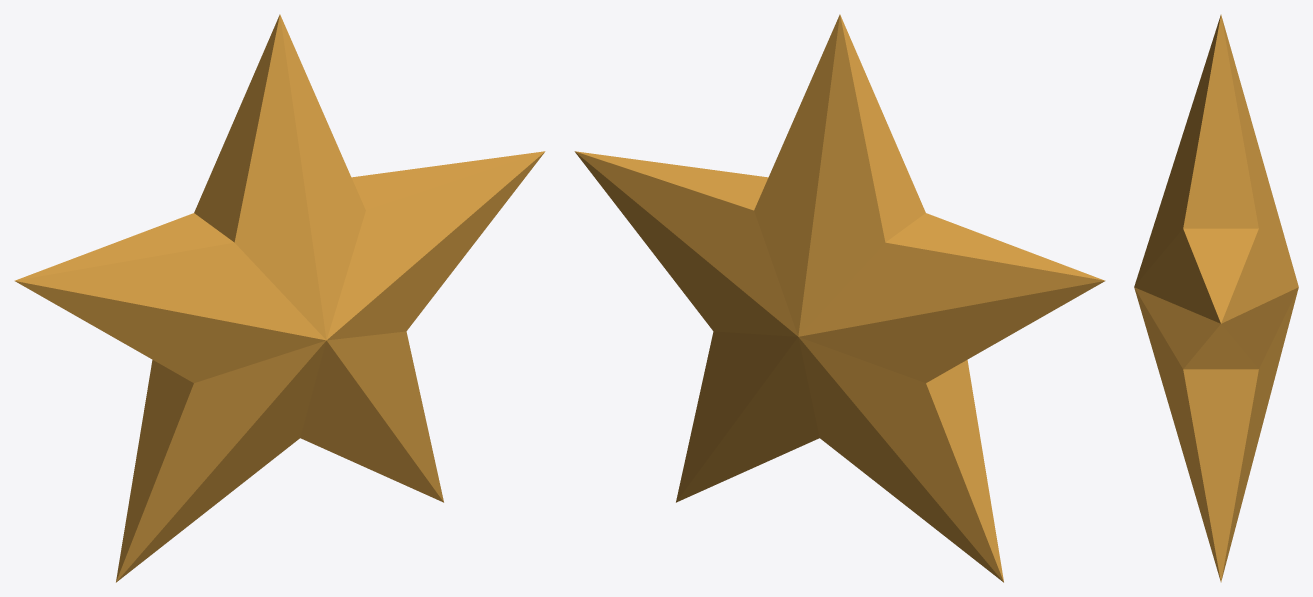
The model's file is Estrella.fbx.
The picture shows the model from 3 angles, left to right: view 1: azimuth 30°, elevation 25°; view 2: azimuth 150°, elevation 25°; view 3: azimuth 270°, elevation 25°; orthographic projection. The views are drawn at different scales.
Parts seen in each view (by area): view 1: Circle; view 2: Circle; view 3: Circle.
Boxes of the visible parts, x1,y1,x2,y2 form: Circle: (14, 14, 545, 582); Circle: (574, 14, 1105, 582); Circle: (1134, 14, 1298, 582).
Bounding box in the file's own units: 1.9 × 1.81 × 0.5467.
